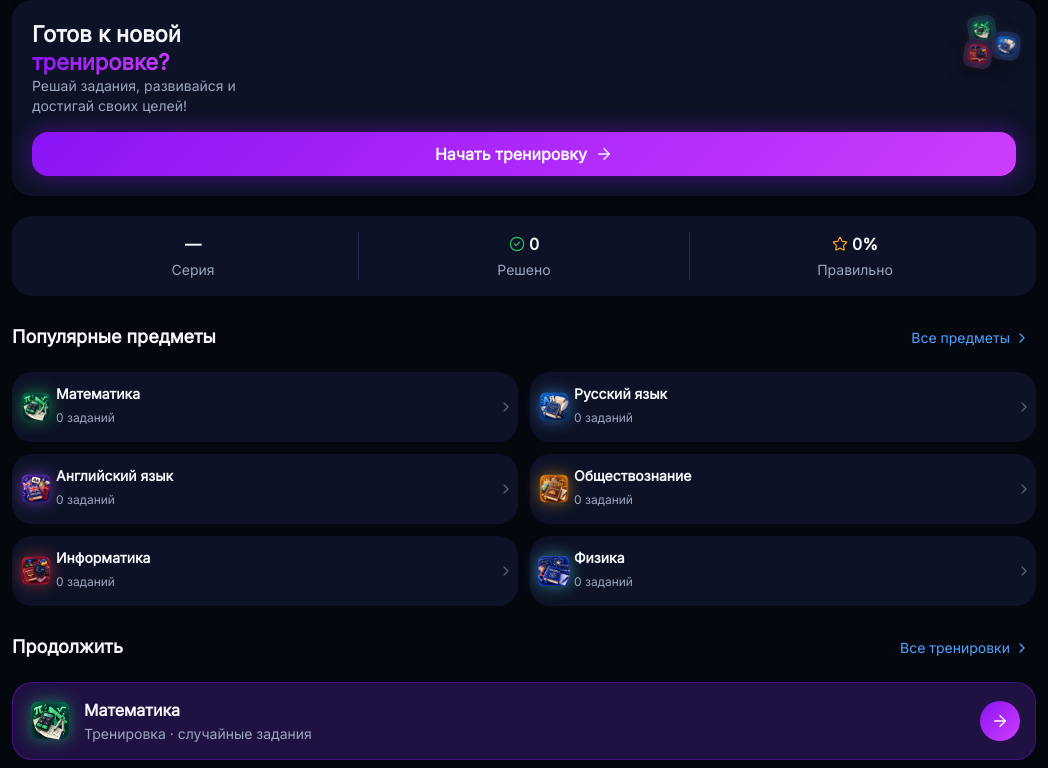
Test: HomeMobile › navigates to the subject catalog from "Все тренировки", not a WIP training tab
The image size is (1048, 768).
Step 1. Click the button "Все тренировки" → x=965, y=648, box [894,626,1036,670]
(page scrolled)
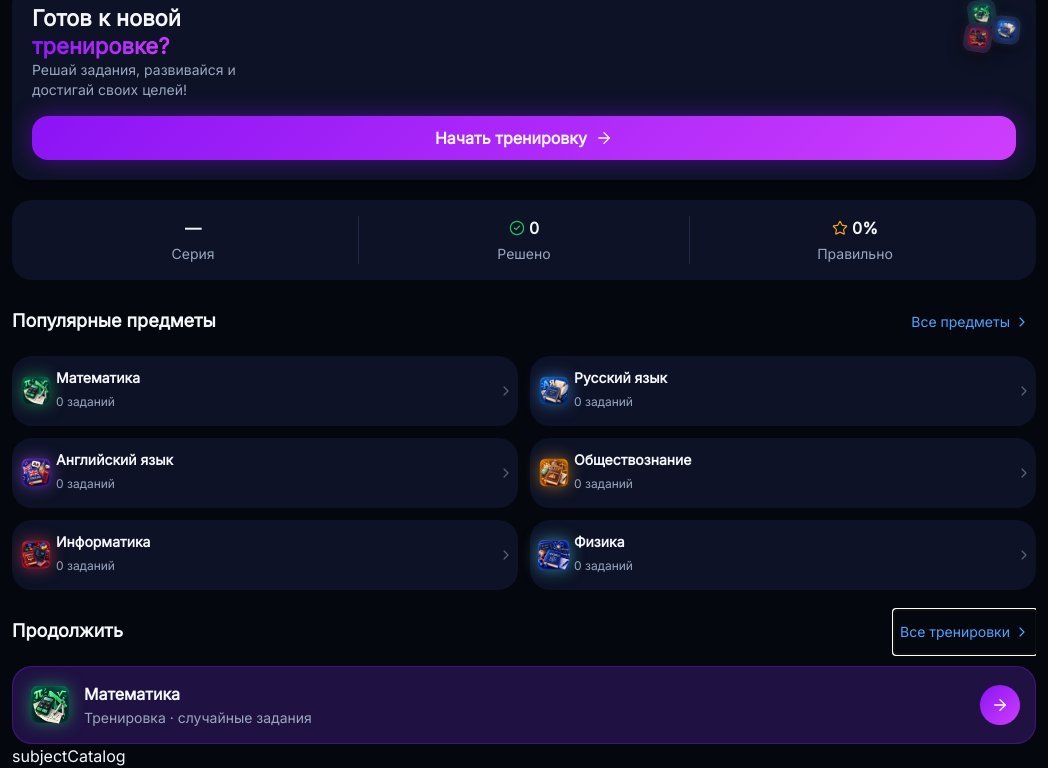
Check: the text with test id "overlay" reads "subjectCatalog", box [12,746,126,766]
